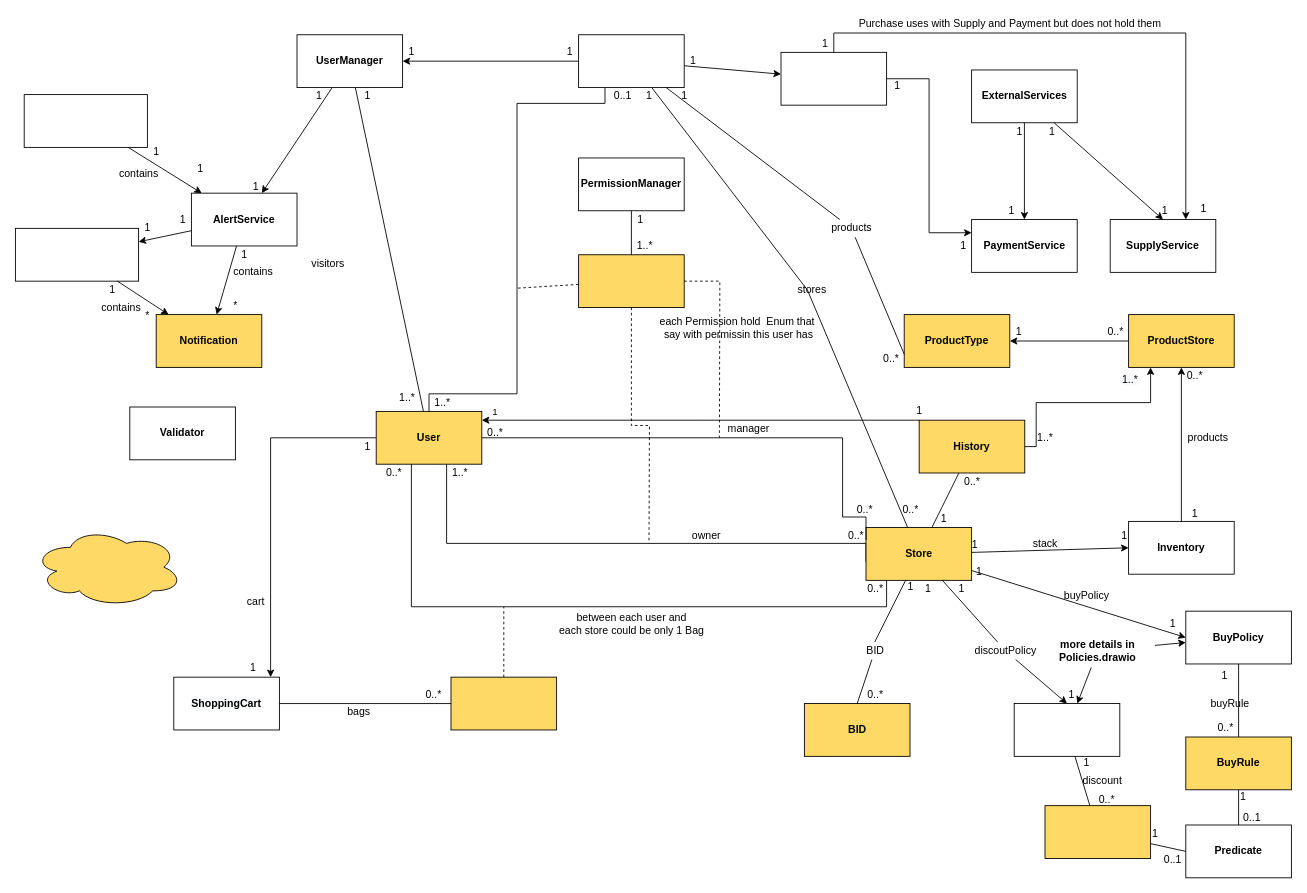
Image size: 1307x893. Some labels were removed from this diagram. Here are the shapes that lost their labels. From the top down, the centre of each, then its label:
the point at 631,61: Market
the point at 833,78: Purchase
the point at 85,120: NotificationController
the point at 77,254: NotificationDispatcher
the point at 631,281: Permission
the point at 107,567: מה שמסומן בכתום זה <persistent>
the point at 503,703: ShoppingBag
the point at 1066,729: DiscountPolicy
the point at 1097,831: DiscountRule
